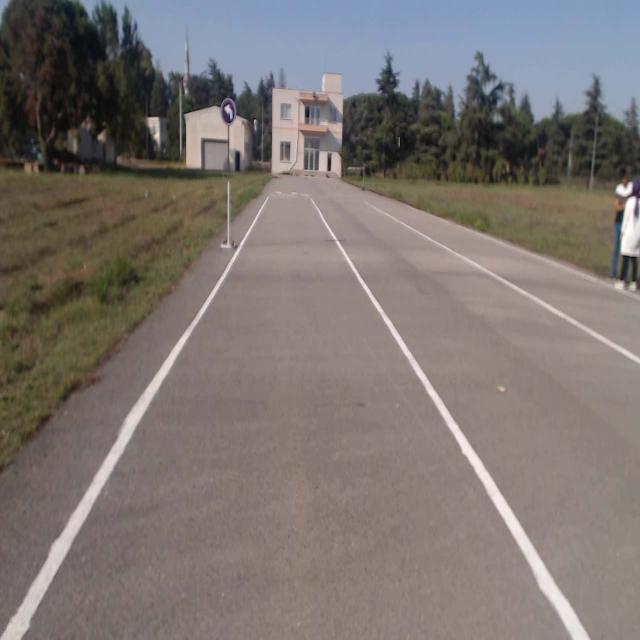sol: (221, 98, 235, 125)
